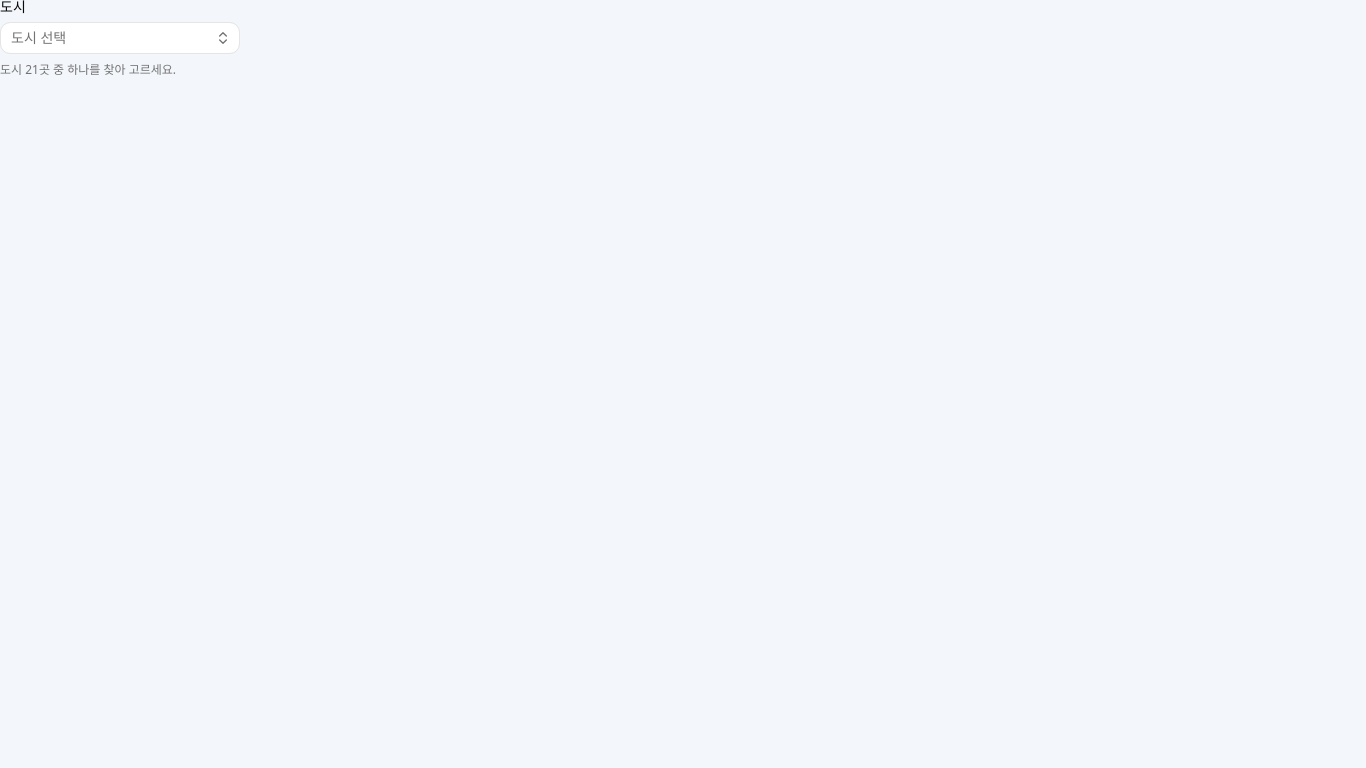
Test case: pick one: typing filters the list, and a click or Enter chooses
Click the dropdown labelled "도시".
click(120, 38)  # box [0, 22, 240, 54]
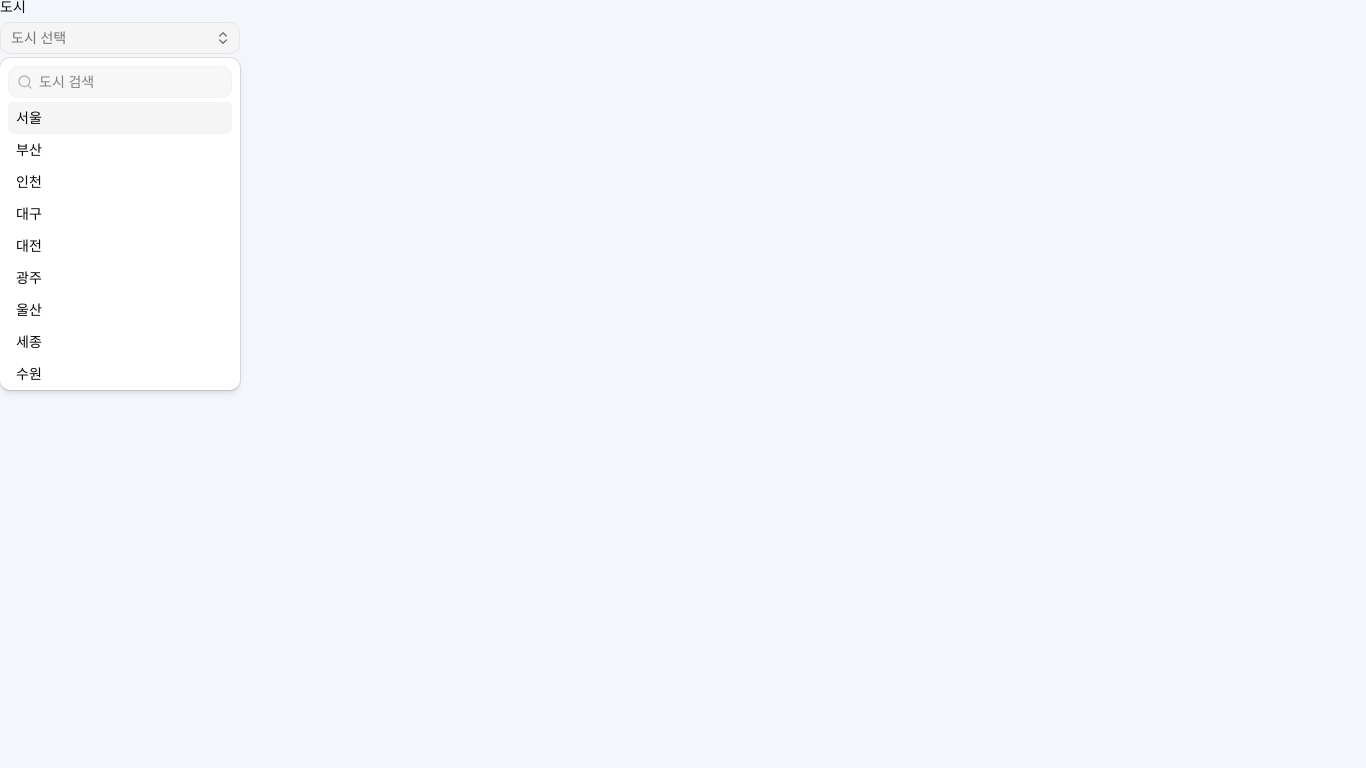
Type "부" into the dropdown labelled "도시 검색".
click(132, 82); type("부")  # box [33, 72, 231, 92]
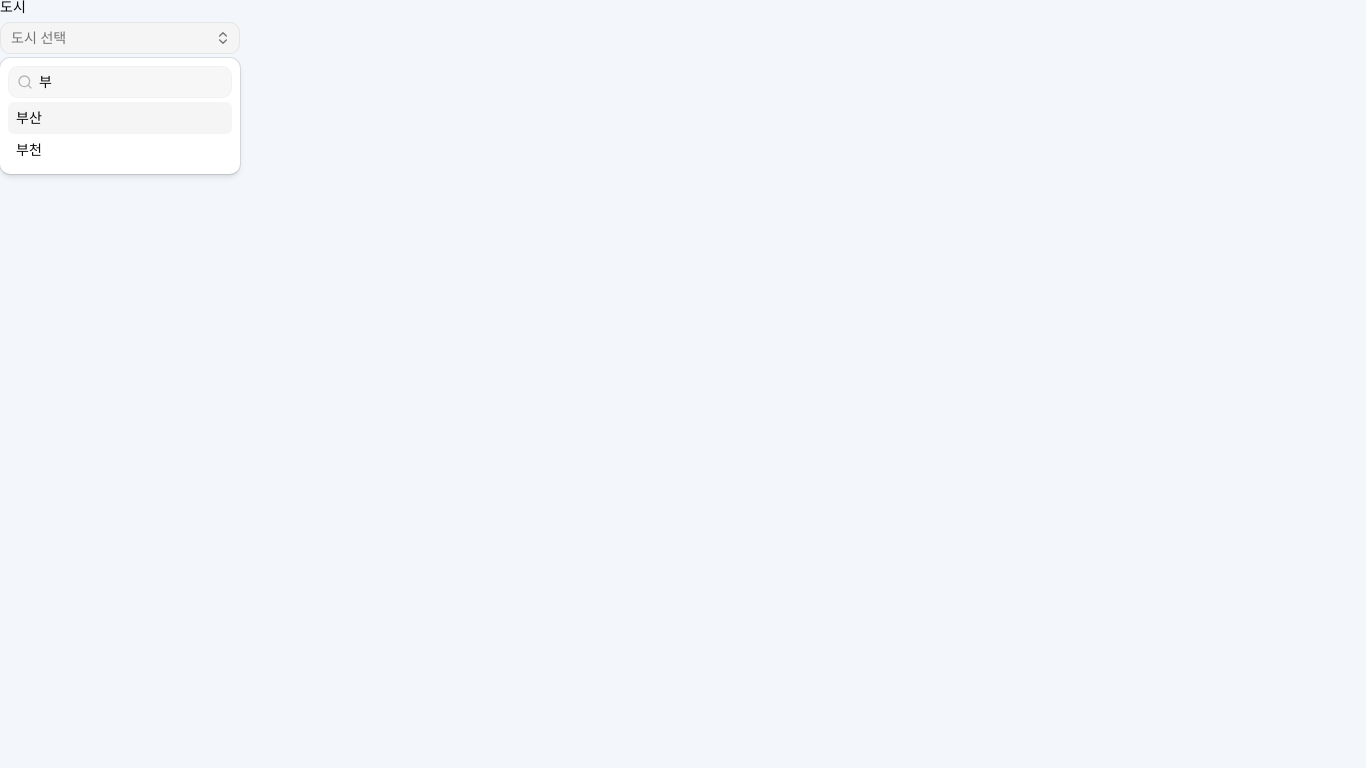
Click the option "부산".
click(120, 118)  # box [8, 102, 232, 134]
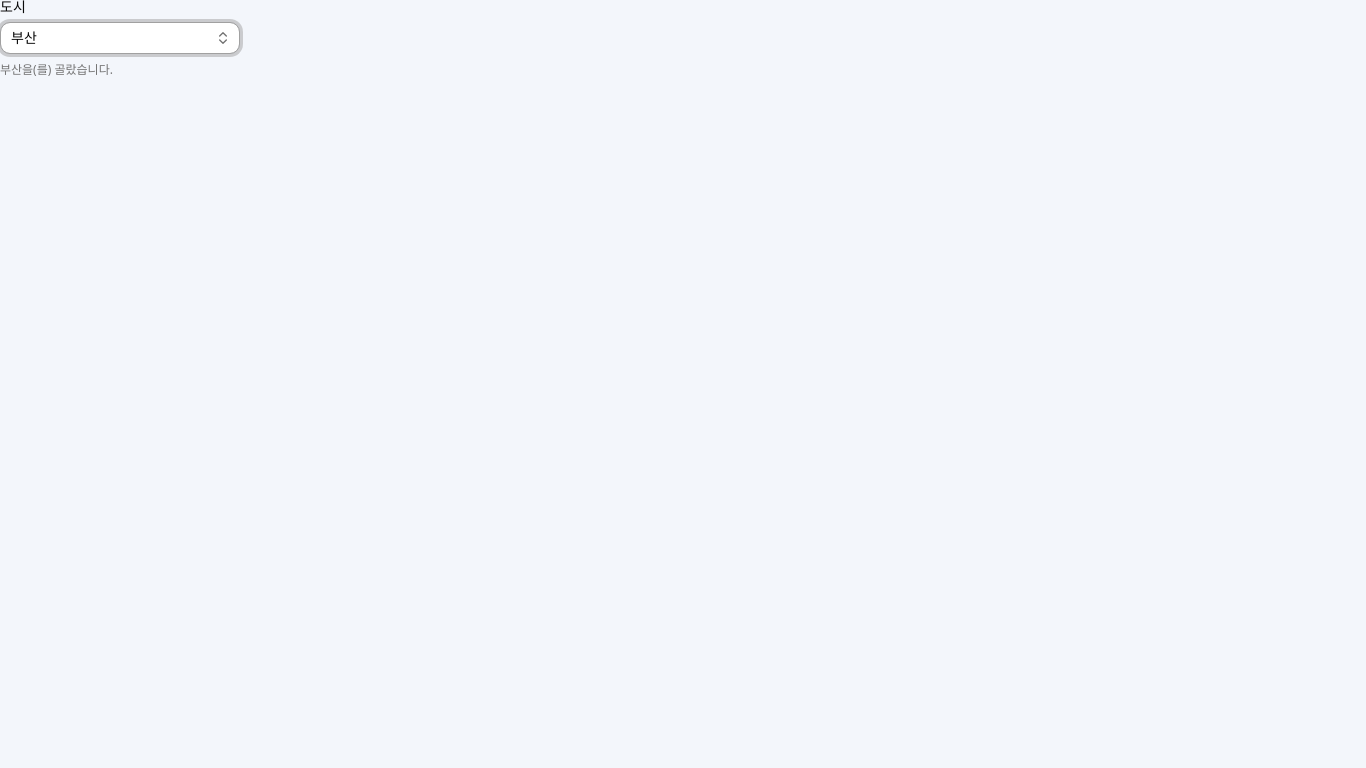
Check: the list is gone
Check: the dropdown named "도시" reads "부산"
Check: the message reads "부산을(를) 골랐습니다.", box [0, 61, 113, 78]
Click the dropdown named "도시".
click(120, 38)  # box [0, 22, 240, 54]
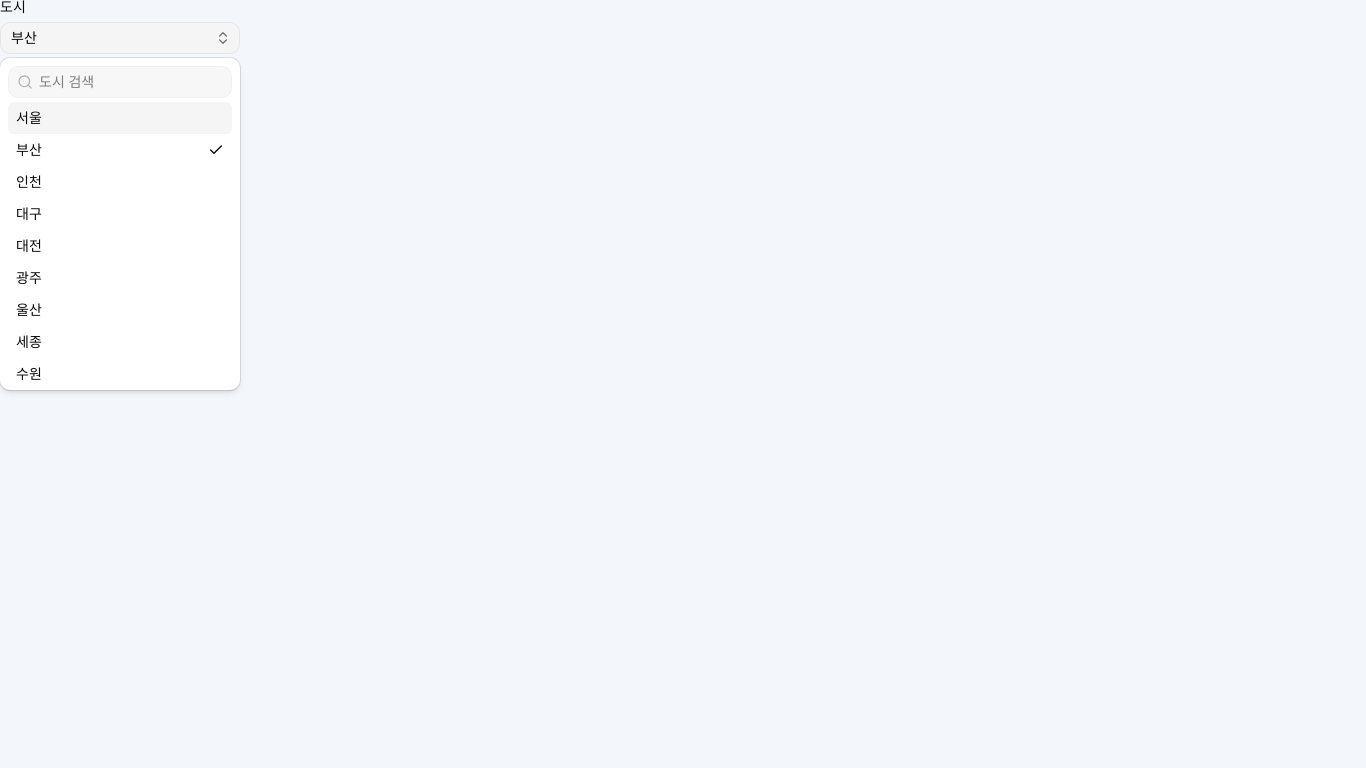
Type "런던" into the dropdown labelled "도시 검색".
click(132, 82); type("런던")  # box [33, 72, 231, 92]
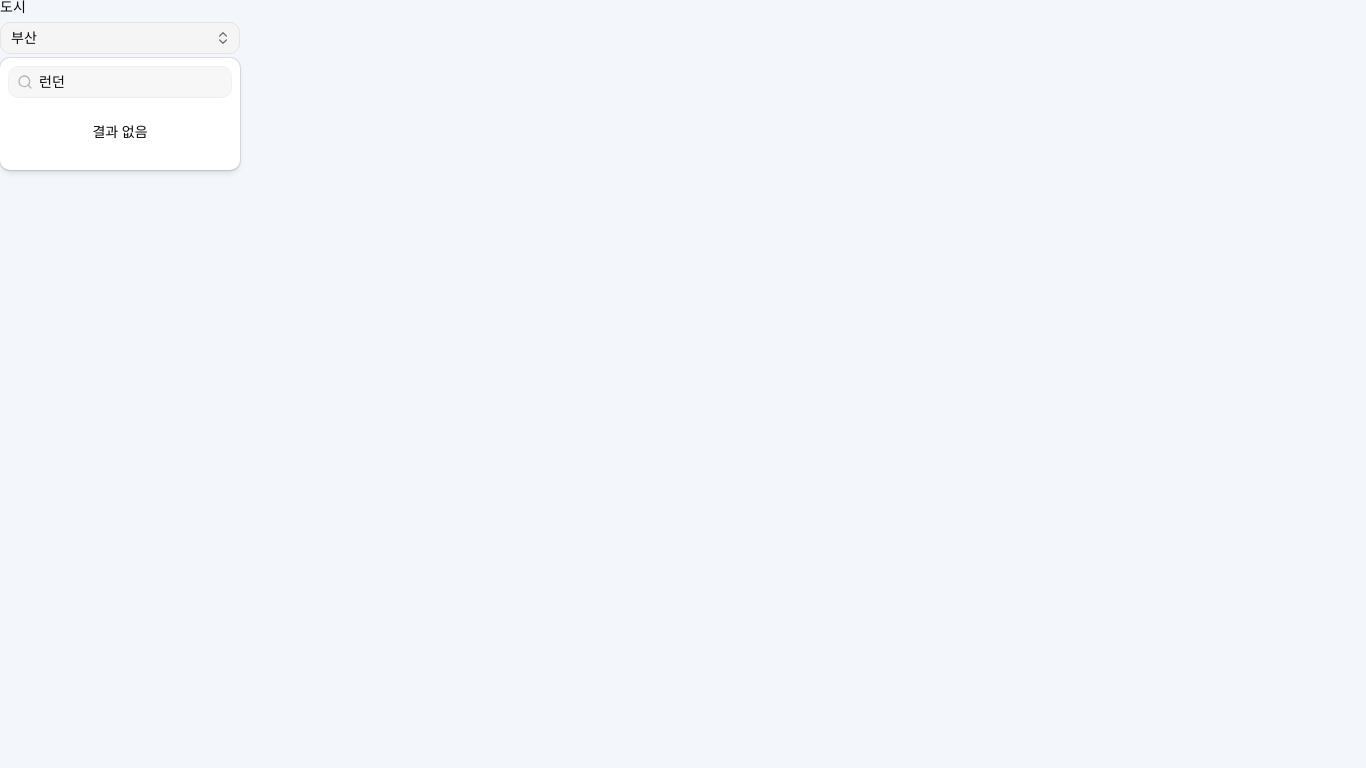
Check: the text "결과 없음" is shown, box [92, 122, 148, 141]
Replace the text in the dropdown named "도시 검색" with "세" at (132,82), box [33, 72, 231, 92]
Then press Enter
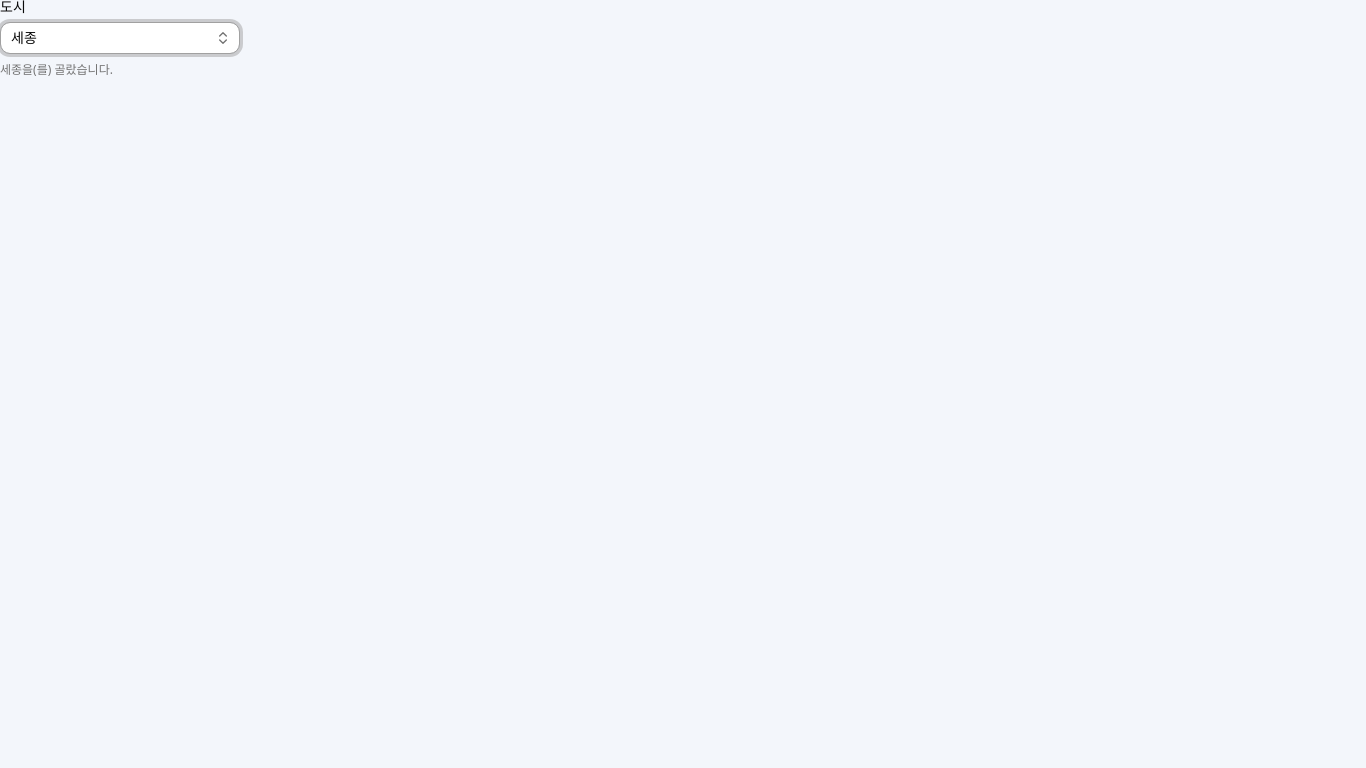
Check: the dropdown named "도시" reads "세종", box [0, 22, 240, 54]
Check: the message reads "세종을(를) 골랐습니다.", box [0, 61, 113, 78]
